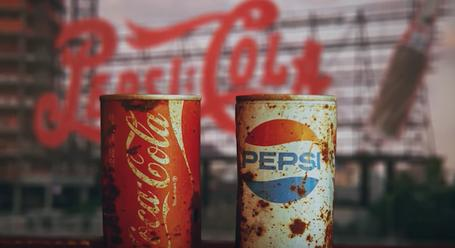pepsi: (242, 116, 321, 202)
